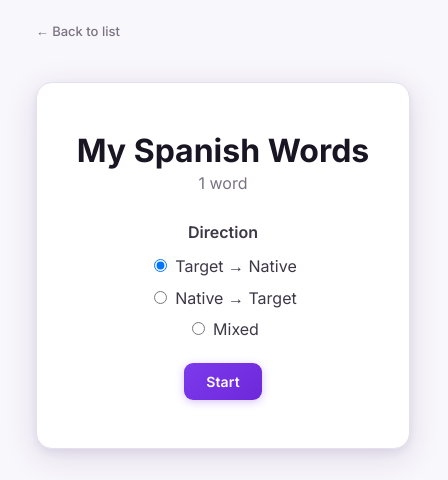
PracticePage › wrong answer shows correct answer
Click the button "Start". click: (223, 381)
box: x1=184 y1=363 x2=262 y2=400
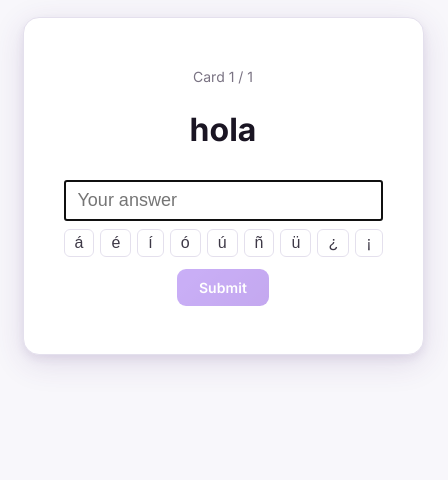
Now the field with placeholder "Your answer" is shown
Type "wronganswer" into the field with placeholder "Your answer". click: (223, 200)
box: x1=64 y1=180 x2=382 y2=221
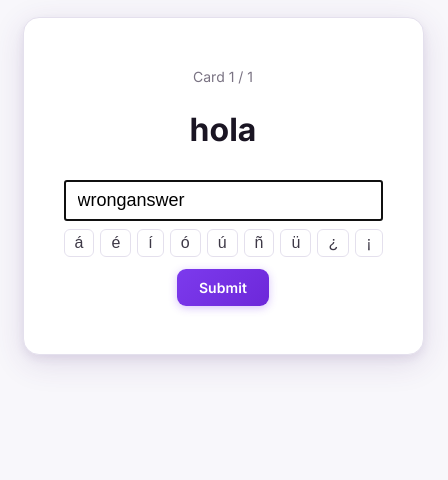
Click the button "Submit". click: (223, 287)
box: x1=177 y1=269 x2=269 y2=306
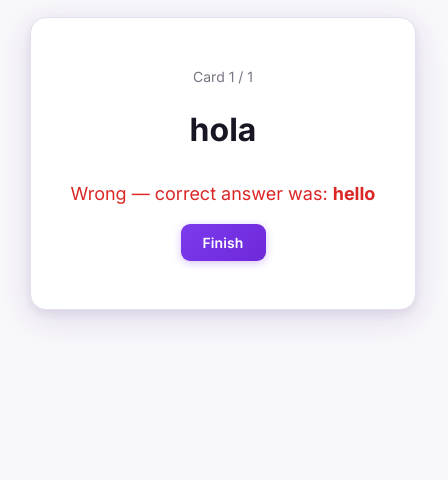
Now the text "Wrong — correct answer was: hello" is shown, box x1=71 y1=180 x2=375 y2=208
